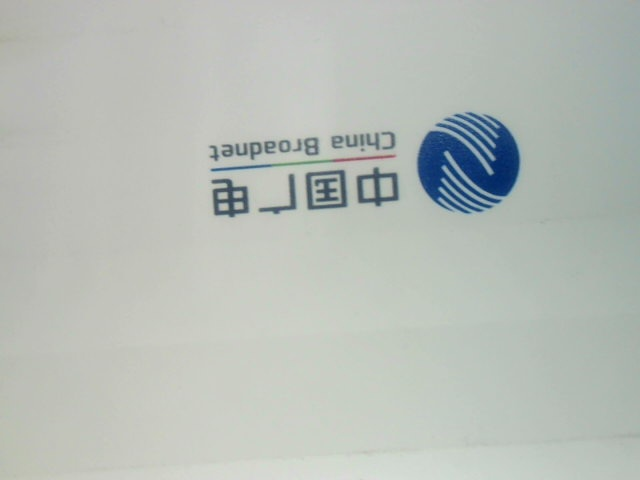AW_ChinaBroadNet: (198, 104, 528, 228)
